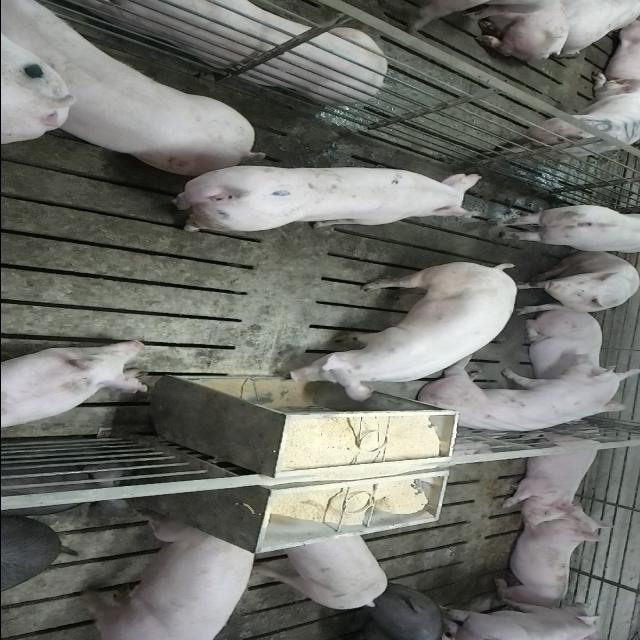Sitting: (409, 362, 635, 440), (514, 252, 640, 316)
Standing: (276, 258, 524, 400), (71, 516, 258, 638), (161, 164, 483, 234), (248, 532, 384, 612), (486, 201, 638, 253), (329, 585, 449, 640), (440, 603, 610, 640)
Sternal_lying: (58, 0, 390, 102), (0, 342, 150, 435), (494, 504, 618, 610), (514, 312, 616, 424), (499, 426, 611, 524)
